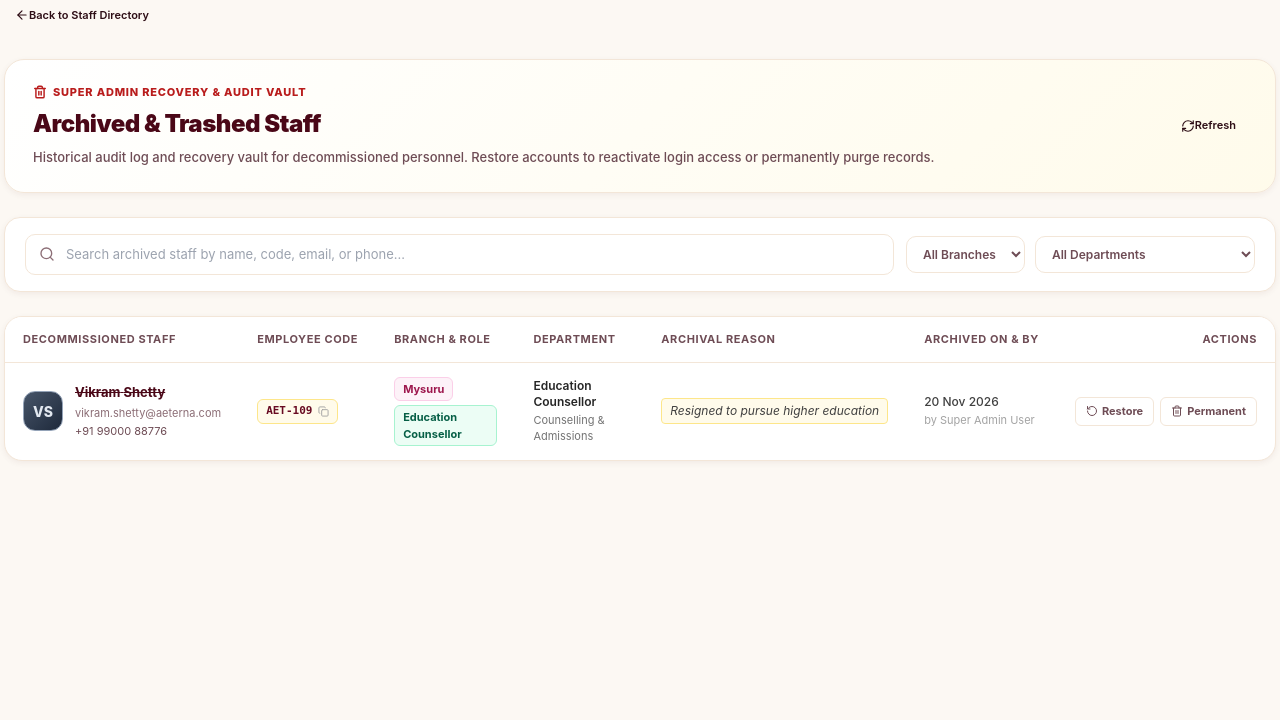
Test case: ArchivedEmployeesPage Component Suite (Dedicated Trash Vault) › opens permanent delete confirm dialog when clicking Permanent button
Click the button "Permanent".
click(1209, 411)  # box x1=1160 y1=397 x2=1257 y2=426
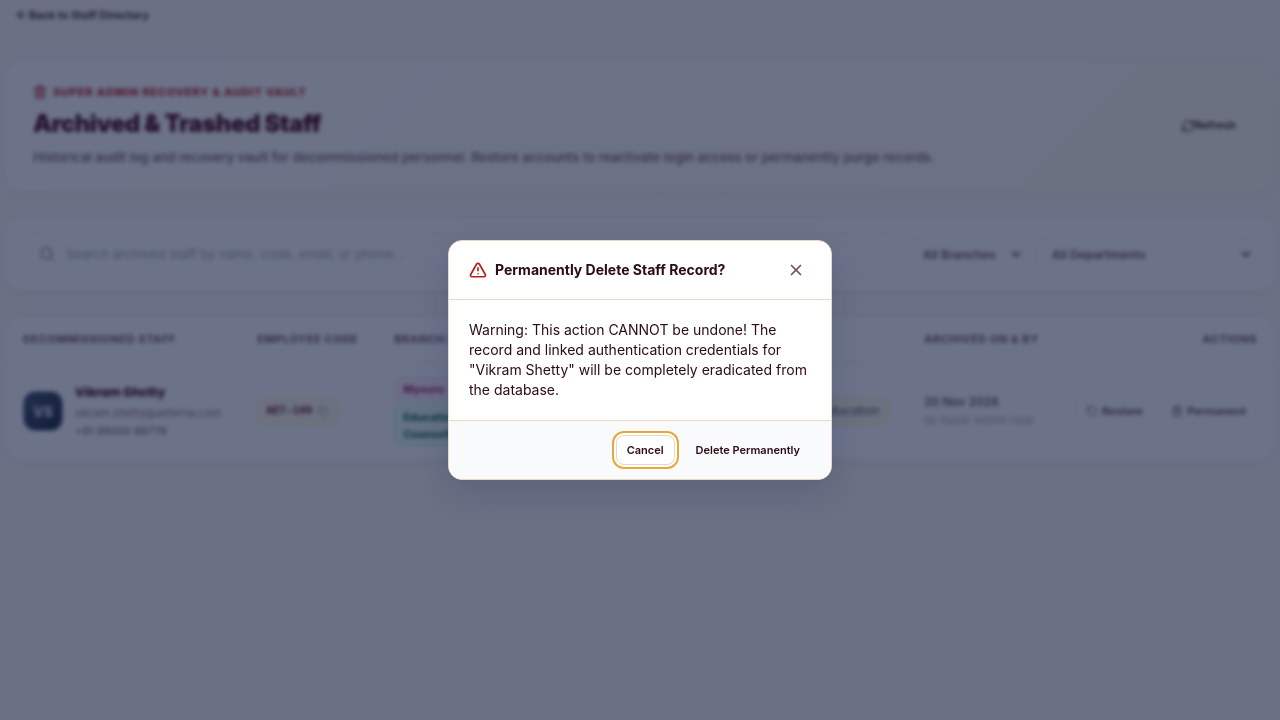
Check: the heading "Permanently Delete Staff Record?" is shown, box x1=495 y1=259 x2=725 y2=280
Check: the text "Warning: This action CANNOT be undone!" is shown, box x1=469 y1=321 x2=807 y2=398
